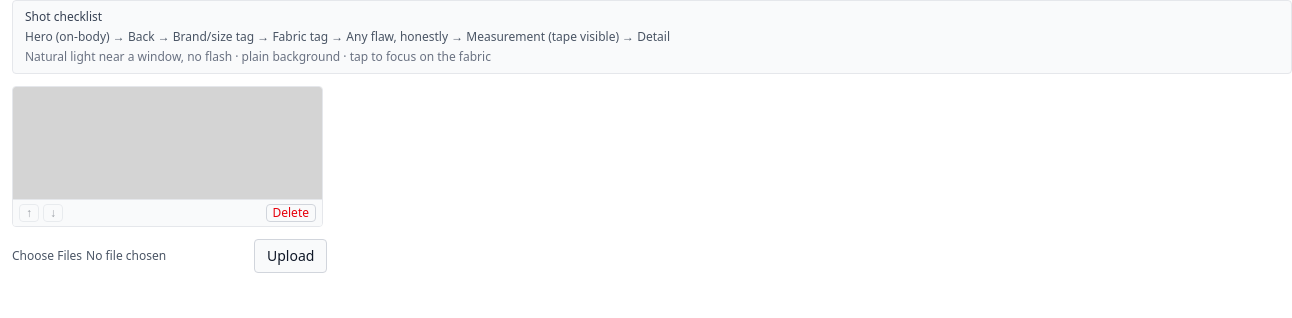
Scenario: PhotoUpload › shows an action error message when delete fails
The image size is (1292, 318).
What coordinates should you click on to do the following:
click the button "Delete"
I would click on:
 (291, 213)
Its box is x1=266 y1=204 x2=316 y2=222.
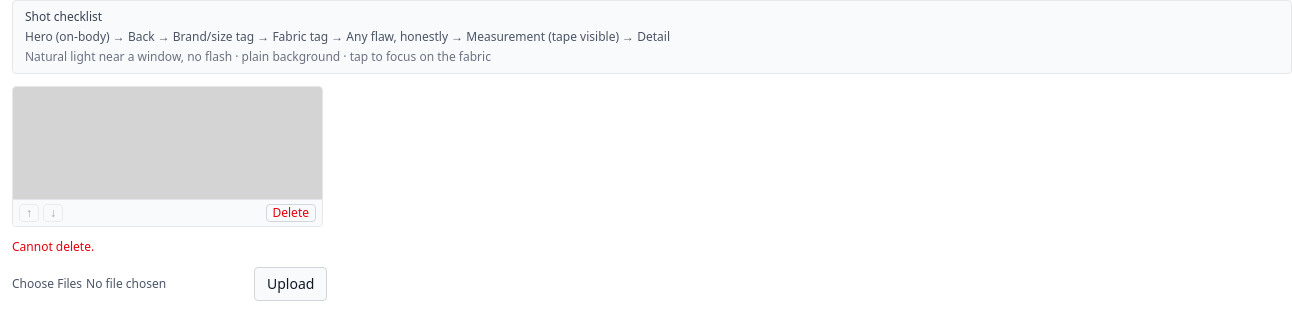
expect the text "Cannot delete." is shown: met, box x1=12 y1=238 x2=94 y2=255
